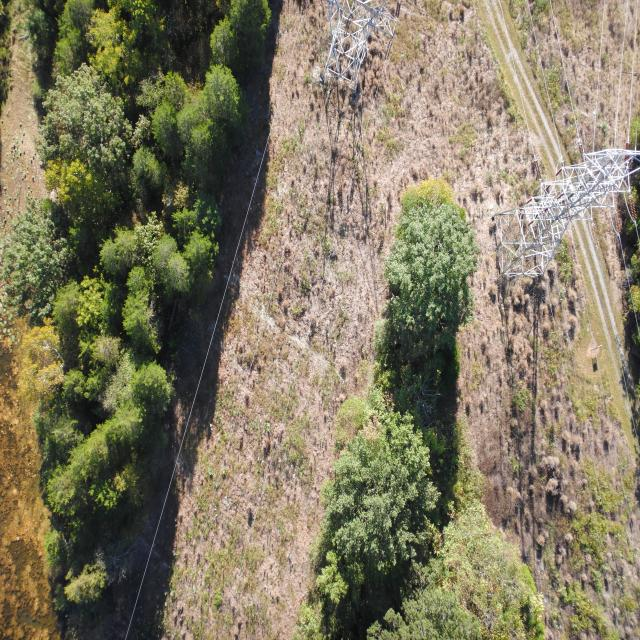Area of Interest: (41, 11, 266, 608), (326, 195, 519, 636)
